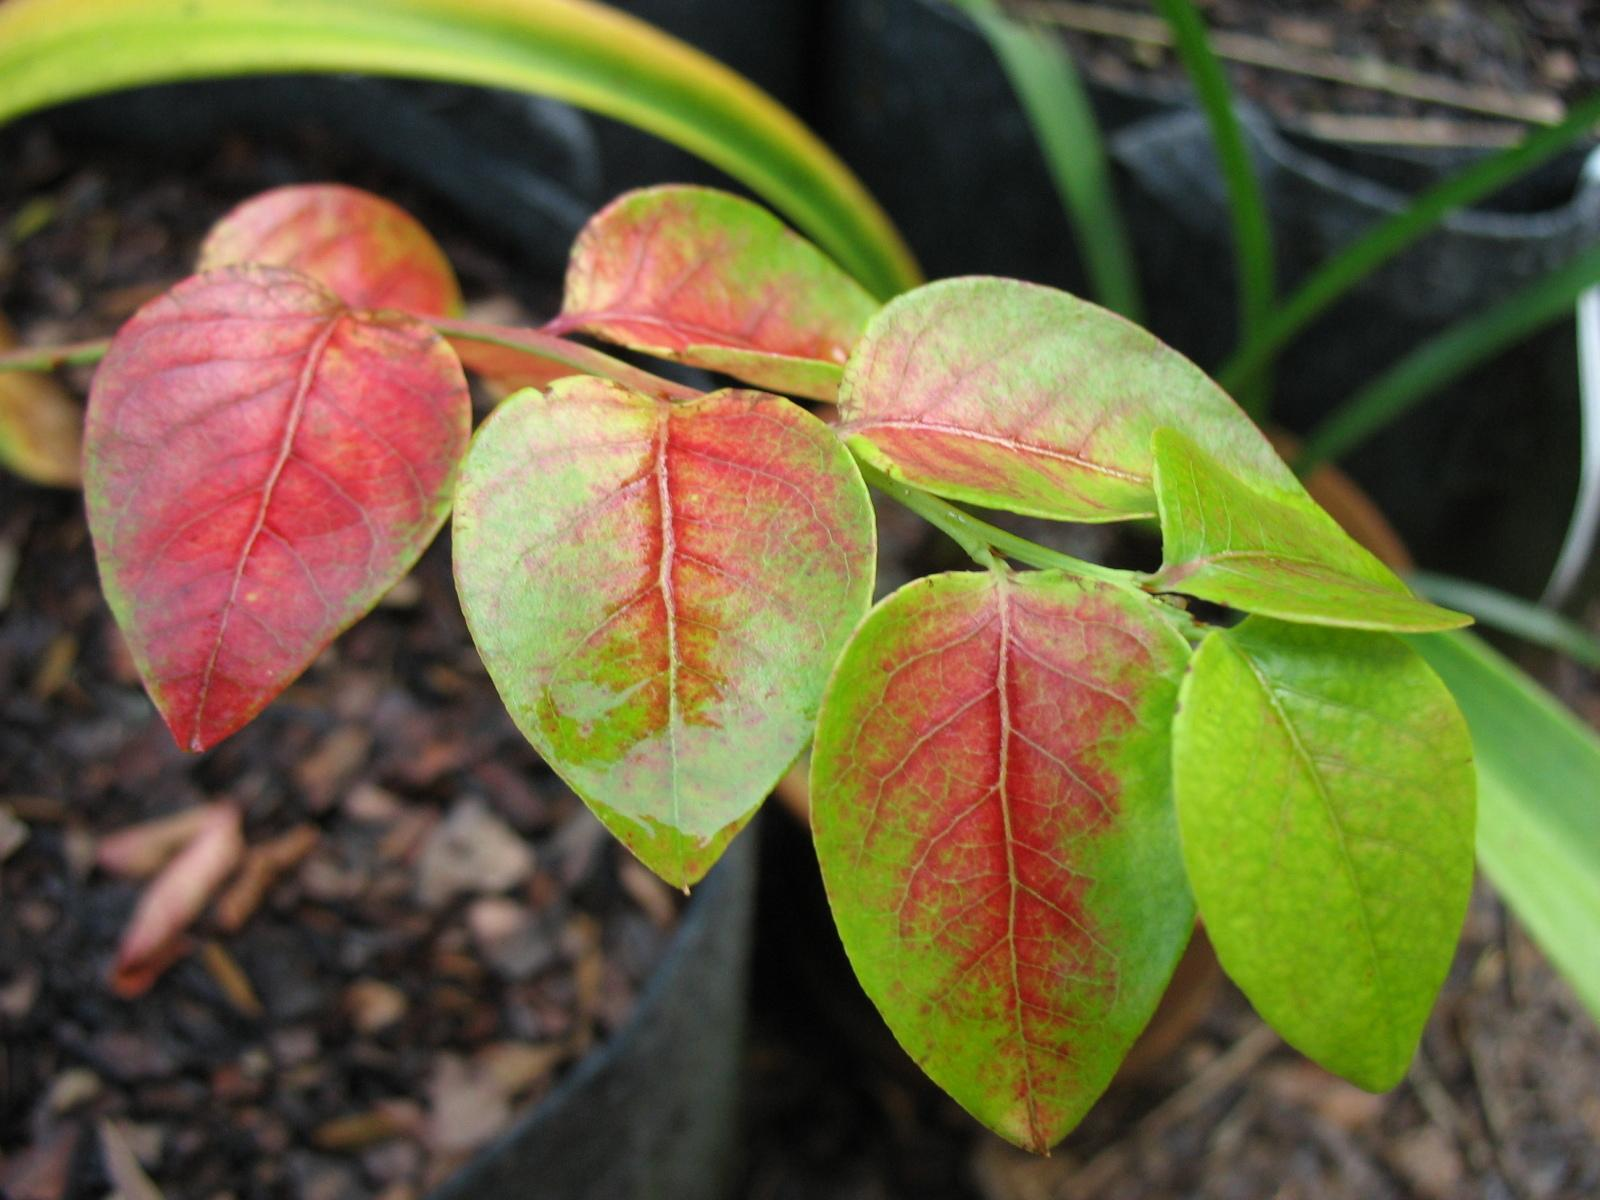Blueberry leaf: (459, 344, 881, 953), (801, 552, 1221, 1162), (71, 253, 475, 827), (1175, 587, 1487, 1116), (825, 245, 1374, 537), (546, 158, 905, 411)
